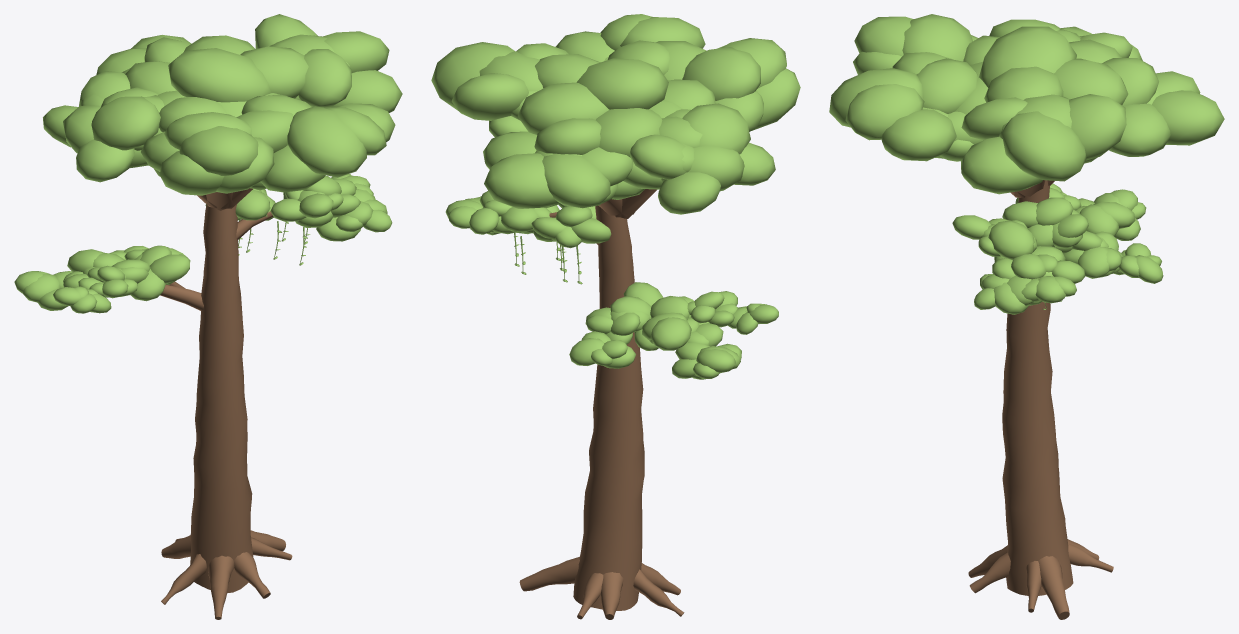
Rendered from first_steps_tree_01.glb.
3 views of the same model, side by side, from view 1: azimuth 30°, elevation 25°; view 2: azimuth 150°, elevation 25°; view 3: azimuth 270°, elevation 25° (orthographic). The views are drawn at different scales.
Visible parts, largest first — view 1: CrownMesh, Trunk, BoughMeshA, BoughMeshB; view 2: CrownMesh, Trunk, BoughMeshA, BoughMeshB; view 3: CrownMesh, Trunk, BoughMeshB, BoughMeshA.
Boxes of the visible parts, left/top/right/bottom form: CrownMesh: left=43, top=14, right=402, bottom=210; Trunk: left=161, top=204, right=292, bottom=619; BoughMeshA: left=14, top=245, right=203, bottom=313; BoughMeshB: left=205, top=174, right=392, bottom=265; CrownMesh: left=431, top=14, right=800, bottom=218; Trunk: left=519, top=205, right=684, bottom=619; BoughMeshA: left=569, top=282, right=778, bottom=379; BoughMeshB: left=445, top=191, right=611, bottom=284; CrownMesh: left=829, top=14, right=1224, bottom=197; Trunk: left=968, top=180, right=1113, bottom=619; BoughMeshB: left=952, top=197, right=1088, bottom=314; BoughMeshA: left=1015, top=183, right=1163, bottom=283.
Bounding box in the file's own units: 32.78 × 50.82 × 32.87.
